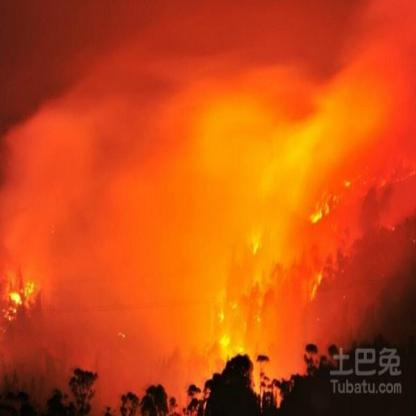fire: (211, 300, 268, 362), (2, 273, 40, 335), (303, 269, 326, 302), (308, 196, 328, 229), (245, 230, 265, 256)
